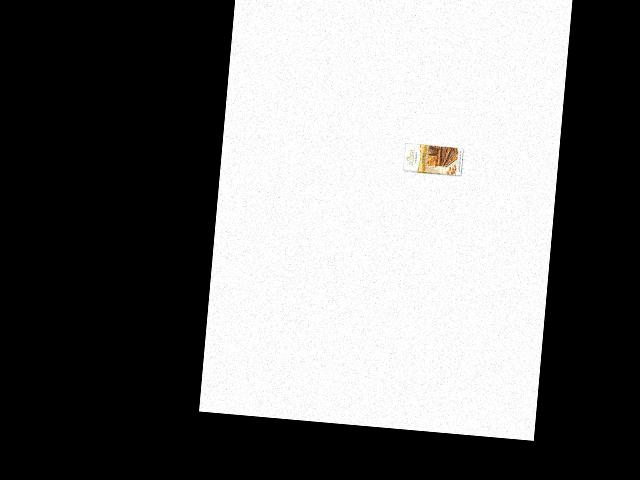chocolate: (398, 137, 466, 187)
